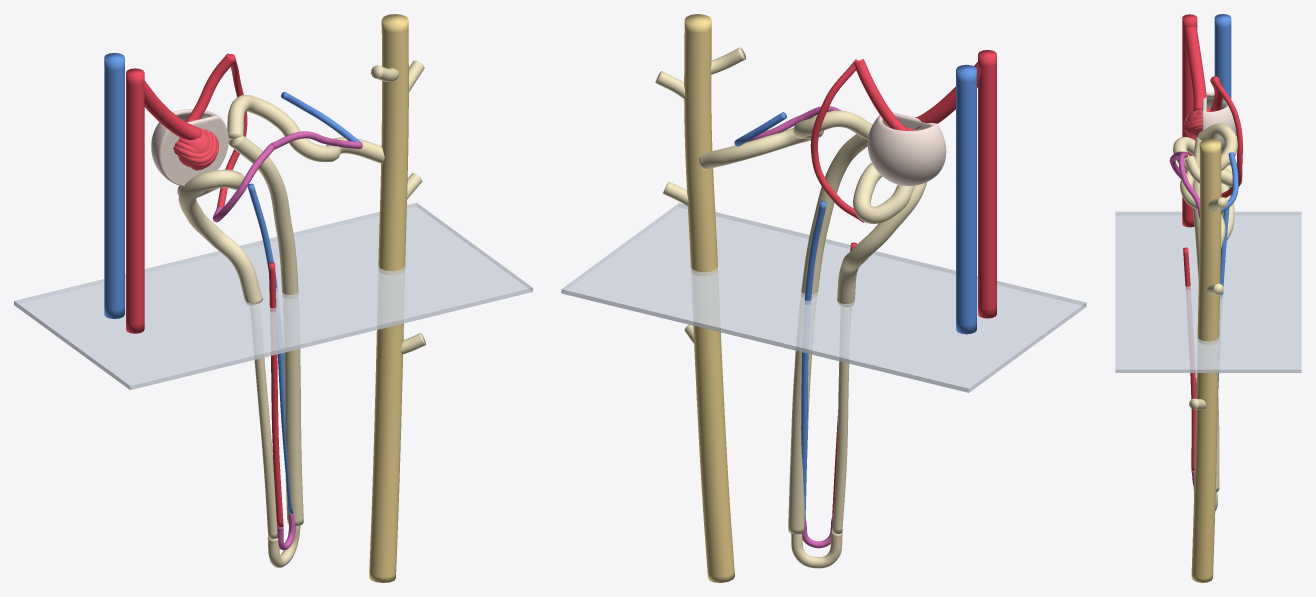
Rendered from nephron.glb.
3 views of the same model, side by side, from view 1: azimuth 30°, elevation 25°; view 2: azimuth 150°, elevation 25°; view 3: azimuth 270°, elevation 25° (orthographic). The views are drawn at different scales.
Visible parts, largest first — view 1: Full_Corticomedullary_Boundary, Sec_Corticomedullary_Boundary, Full_Collecting_Duct, Full_Henle_Thick_Ascending, Full_Interlobular_Vein, Full_Interlobular_Artery, Full_PCT, Full_DCT, Full_Bowman_Capsule, Full_Henle_Thin_Descending, Full_Vasa_Recta_Desc_1, Full_Vasa_Recta_Asc_1 (+7 smaller); view 2: Full_Corticomedullary_Boundary, Sec_Corticomedullary_Boundary, Full_Collecting_Duct, Full_Interlobular_Vein, Full_Interlobular_Artery, Full_Henle_Thick_Ascending, Full_Bowman_Capsule, Full_PCT, Full_DCT, Full_Henle_Thin_Descending, Full_Vasa_Recta_Asc_1, Full_Cap_PCT_1 (+3 smaller); view 3: Full_Corticomedullary_Boundary, Sec_Corticomedullary_Boundary, Full_Collecting_Duct, Full_Interlobular_Vein, Full_Interlobular_Artery, Full_DCT, Full_Afferent_Arteriole, Full_PCT, Full_Bowman_Capsule, Full_Henle_Thick_Ascending, Full_Cap_PCT_1, Full_Vasa_Recta_Desc_1 (+5 smaller).
Part boxes in pixels (x1,y1,x2,y2): Full_Corticomedullary_Boundary: [14, 202, 532, 389]; Sec_Corticomedullary_Boundary: [14, 203, 532, 389]; Full_Collecting_Duct: [369, 14, 408, 582]; Full_Henle_Thick_Ascending: [228, 135, 303, 526]; Full_Interlobular_Vein: [104, 53, 124, 318]; Full_Interlobular_Artery: [126, 68, 144, 333]; Full_PCT: [177, 169, 262, 305]; Full_DCT: [227, 95, 384, 163]; Full_Bowman_Capsule: [151, 109, 228, 186]; Full_Henle_Thin_Descending: [252, 303, 277, 539]; Full_Vasa_Recta_Desc_1: [268, 262, 283, 527]; Full_Vasa_Recta_Asc_1: [247, 183, 293, 513]; Full_Corticomedullary_Boundary: [561, 203, 1086, 392]; Sec_Corticomedullary_Boundary: [561, 203, 1086, 392]; Full_Collecting_Duct: [684, 14, 734, 582]; Full_Interlobular_Vein: [956, 64, 976, 334]; Full_Interlobular_Artery: [978, 50, 996, 318]; Full_Henle_Thick_Ascending: [788, 134, 867, 534]; Full_Bowman_Capsule: [867, 112, 946, 185]; Full_PCT: [837, 162, 926, 307]; Full_DCT: [698, 110, 872, 169]; Full_Henle_Thin_Descending: [832, 361, 849, 534]; Full_Vasa_Recta_Asc_1: [801, 200, 826, 519]; Full_Cap_PCT_1: [810, 59, 864, 222]; Full_Corticomedullary_Boundary: [1115, 211, 1301, 372]; Sec_Corticomedullary_Boundary: [1115, 212, 1301, 372]; Full_Collecting_Duct: [1191, 138, 1221, 582]; Full_Interlobular_Vein: [1214, 14, 1231, 188]; Full_Interlobular_Artery: [1182, 14, 1197, 227]; Full_DCT: [1180, 123, 1237, 249]; Full_Afferent_Arteriole: [1184, 26, 1206, 110]; Full_PCT: [1173, 137, 1242, 240]; Full_Bowman_Capsule: [1202, 92, 1236, 151]; Full_Henle_Thick_Ascending: [1192, 137, 1219, 491]; Full_Cap_PCT_1: [1212, 79, 1242, 197]; Full_Vasa_Recta_Desc_1: [1183, 247, 1196, 470].
Bounding box in the file's own units: 0.18 × 0.2453 × 0.09.
